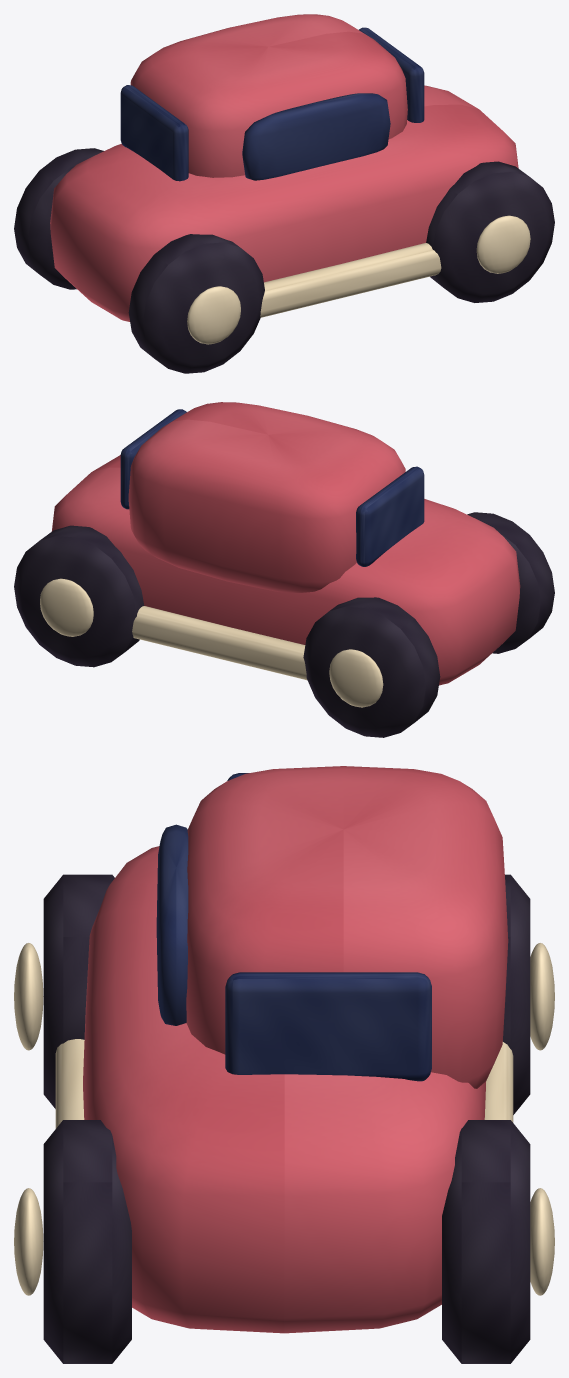
The model's file is V5_ToyCar.fbx.
3 renders of one model, top to bottom at view 1: azimuth 30°, elevation 25°; view 2: azimuth 150°, elevation 25°; view 3: azimuth 270°, elevation 25°, orthographic. The views are drawn at different scales.
Visible parts, largest first — view 1: V5_ToyCar; view 2: V5_ToyCar; view 3: V5_ToyCar.
Part boxes in pixels (bbox=[...]): V5_ToyCar: bbox=[14, 14, 554, 373]; V5_ToyCar: bbox=[14, 402, 554, 737]; V5_ToyCar: bbox=[14, 766, 554, 1363].
Size of the model in its own units: 0.17 by 0.09 by 0.11.
1 material, 1 textured.
